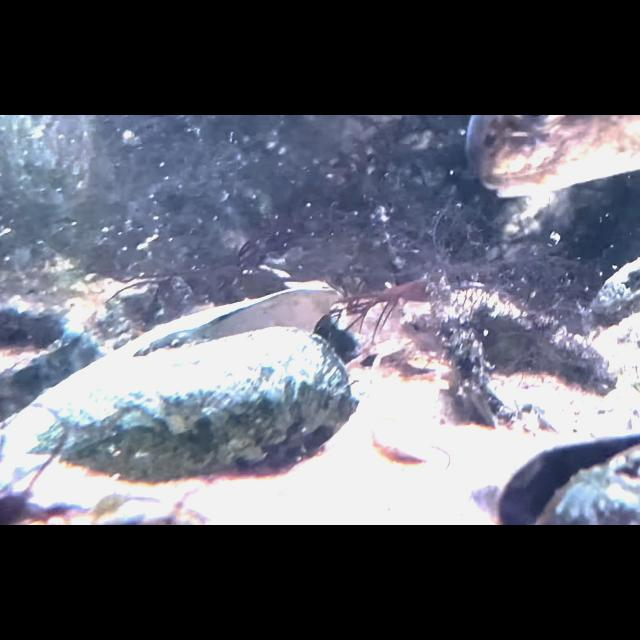Oyster-Closed: (587, 254, 640, 329)
Oyster-Open: (24, 280, 358, 488), (496, 433, 640, 525)
